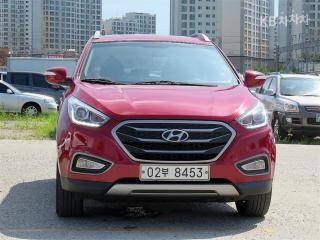0: (147, 166, 154, 177)
2: (154, 167, 161, 178)
3: (196, 167, 204, 178)
4: (182, 167, 189, 178)
5: (189, 167, 196, 178)
8: (173, 167, 182, 178)
plate: (135, 159, 215, 186)
부: (161, 167, 170, 178)
